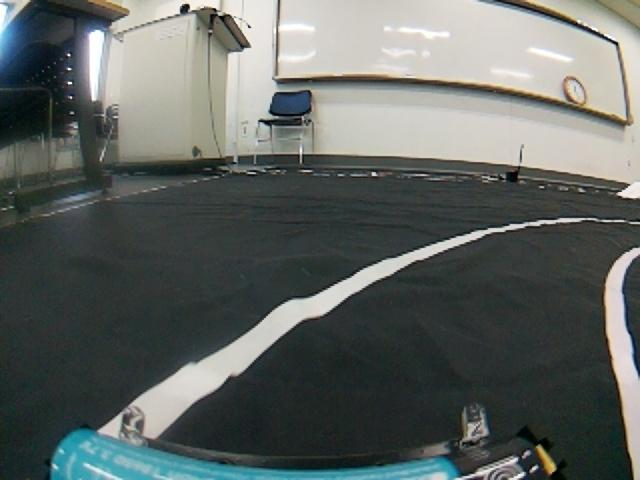right: (3, 186, 640, 480)
